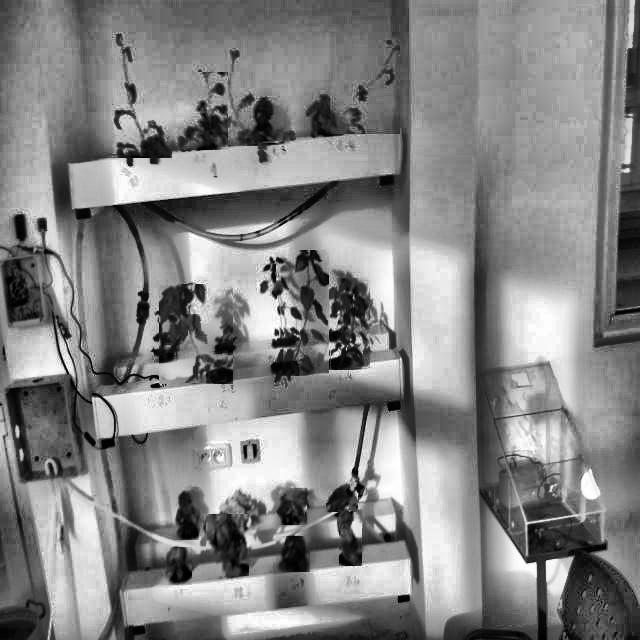plants: (159, 284, 233, 384), (114, 34, 172, 158), (276, 250, 329, 376), (330, 39, 400, 134), (226, 50, 289, 146), (174, 72, 228, 150), (328, 278, 370, 370), (258, 252, 290, 349), (206, 514, 249, 576), (154, 311, 184, 363), (173, 487, 199, 540), (339, 510, 362, 565), (276, 536, 310, 572), (277, 488, 307, 525), (166, 547, 192, 585), (326, 482, 358, 512)
